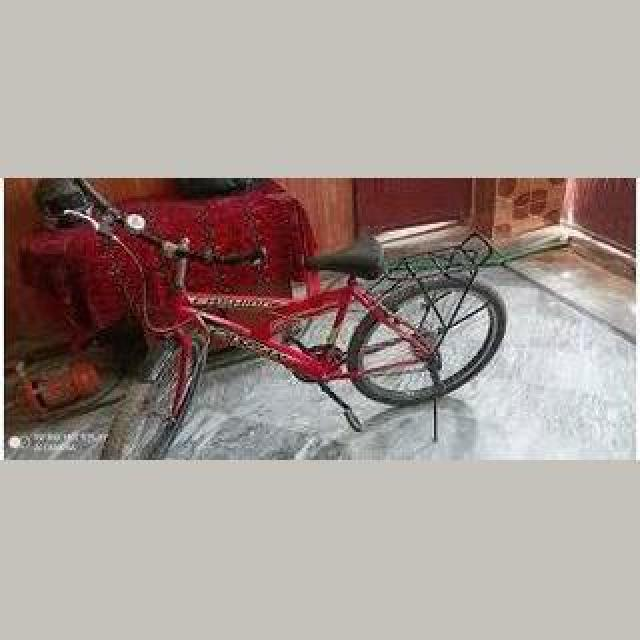Person: (60, 178, 510, 460)
